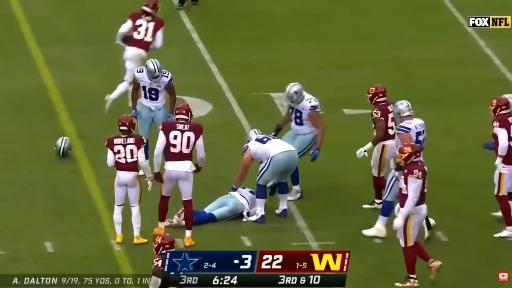Helmet: (398, 143, 421, 166), (153, 234, 175, 254), (285, 83, 304, 105), (490, 97, 510, 116), (367, 85, 387, 104), (145, 59, 162, 81), (54, 137, 72, 157), (118, 114, 136, 133), (175, 103, 193, 121), (394, 100, 413, 117), (142, 0, 160, 14), (247, 129, 262, 142), (503, 94, 511, 108), (243, 144, 249, 156)
Jersey: (161, 121, 203, 171), (135, 67, 173, 109), (127, 12, 164, 51), (106, 135, 146, 171), (243, 136, 295, 162), (399, 161, 427, 207), (290, 92, 320, 134), (396, 118, 426, 159), (371, 100, 396, 141), (492, 114, 511, 165), (229, 188, 256, 211), (153, 255, 165, 277)
Player: (154, 104, 205, 246), (393, 143, 441, 286), (106, 0, 164, 111), (232, 130, 298, 223), (106, 115, 152, 244), (357, 85, 396, 208), (272, 83, 324, 161), (132, 59, 176, 140), (491, 97, 511, 237), (363, 170, 401, 237), (194, 187, 256, 225), (149, 234, 175, 287), (503, 94, 511, 107), (177, 0, 186, 10)
